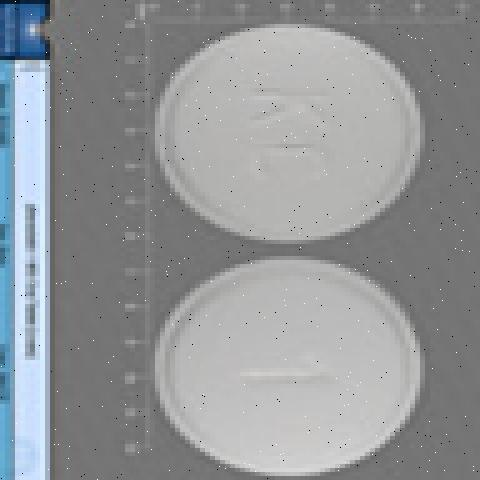Pill: (143, 237, 468, 480), (136, 18, 427, 248)
